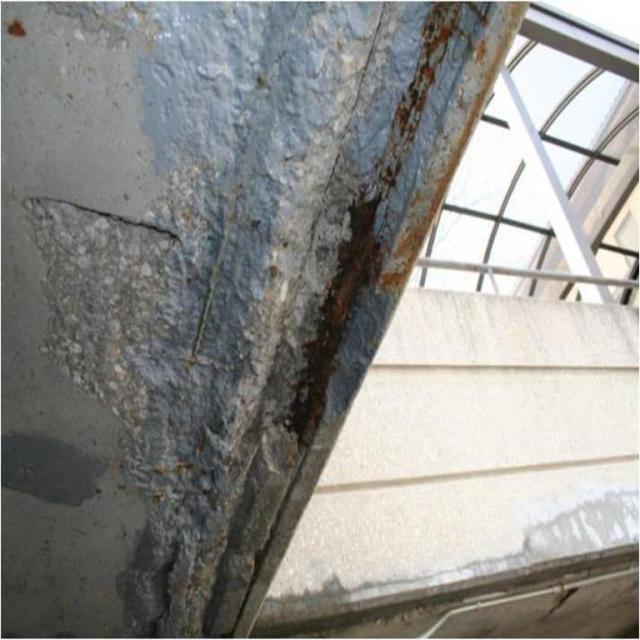spalling: (21, 2, 533, 637)
